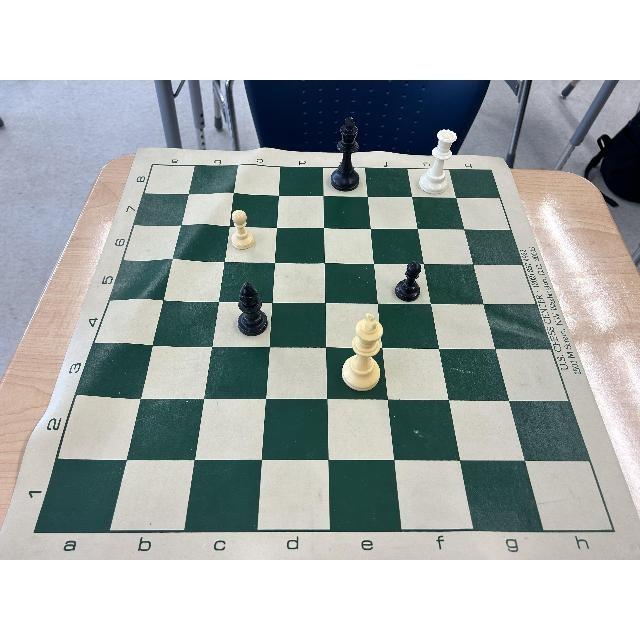black-bishop: (238, 281, 268, 336)
black-king: (331, 116, 361, 192)
black-pawn: (395, 261, 421, 301)
white-king: (343, 313, 385, 392)
white-pawn: (230, 209, 255, 251)
white-queen: (418, 128, 457, 193)
